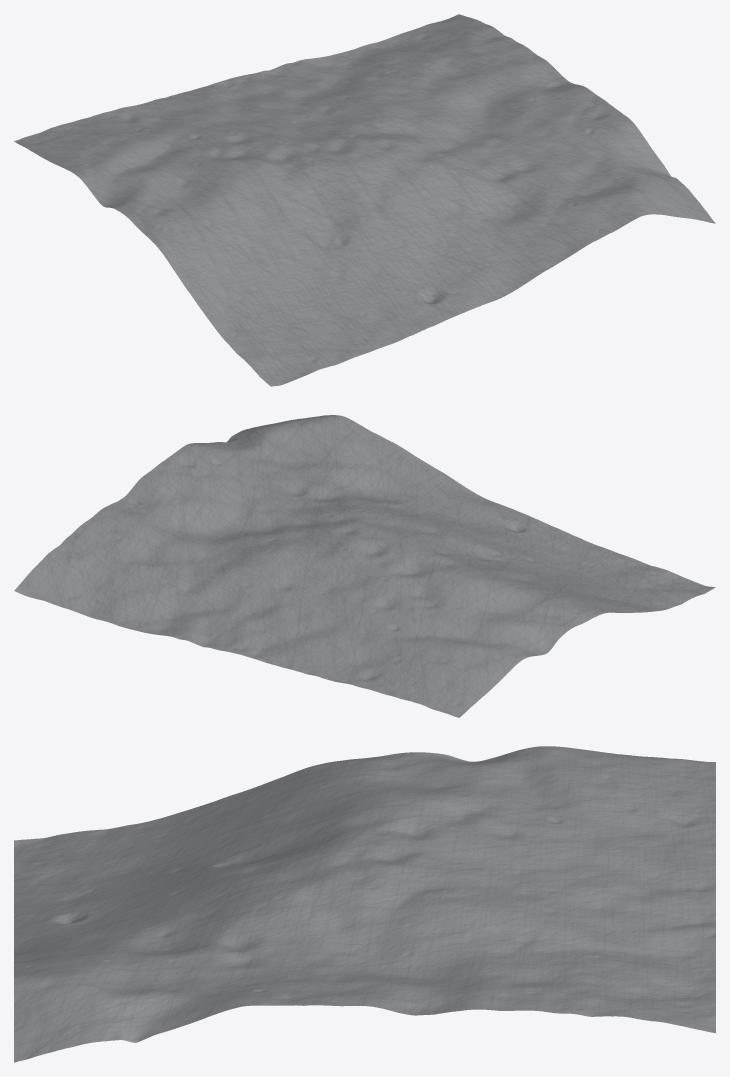
File: site20v2_leibnitz_beta_terrain.obj
The picture shows the model from 3 angles, top to bottom: view 1: azimuth 30°, elevation 25°; view 2: azimuth 150°, elevation 25°; view 3: azimuth 270°, elevation 25°; orthographic projection. The views are drawn at different scales.
Bounding box in the file's own units: 76 × 15.92 × 76.
Materials: 1 (1 with a texture image).
